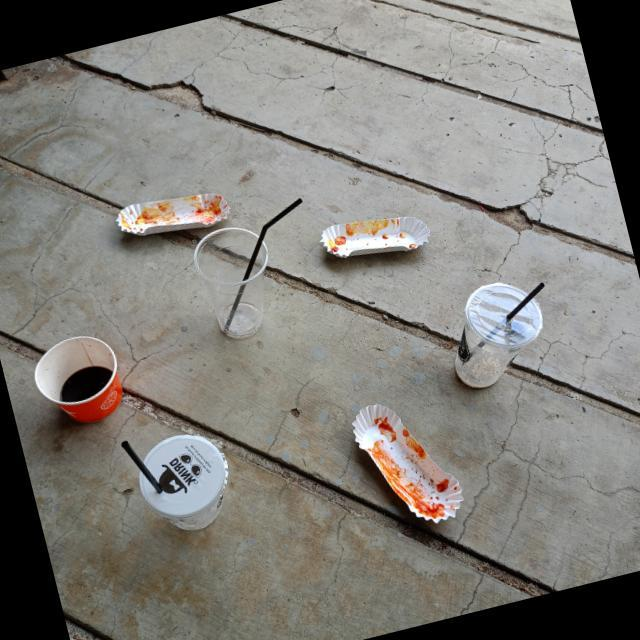recyclable waste: (332, 372, 482, 550), (163, 205, 313, 375), (421, 258, 572, 414), (116, 412, 258, 562), (13, 314, 148, 452), (99, 170, 248, 260), (306, 189, 444, 283)
